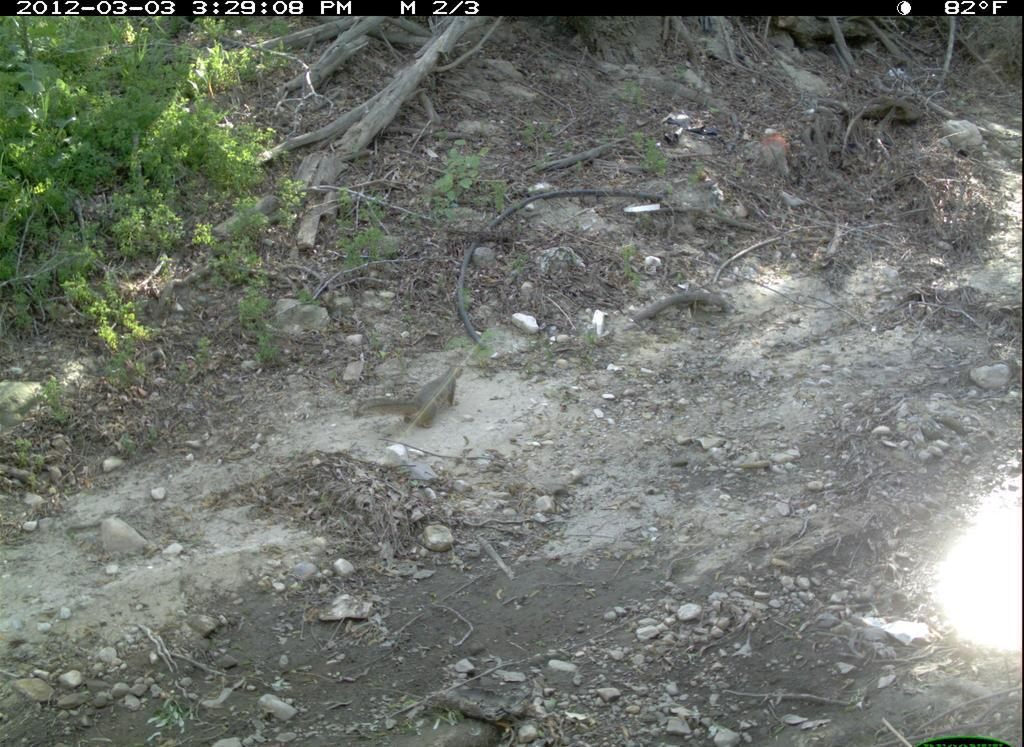squirrel: (346, 349, 492, 443)
